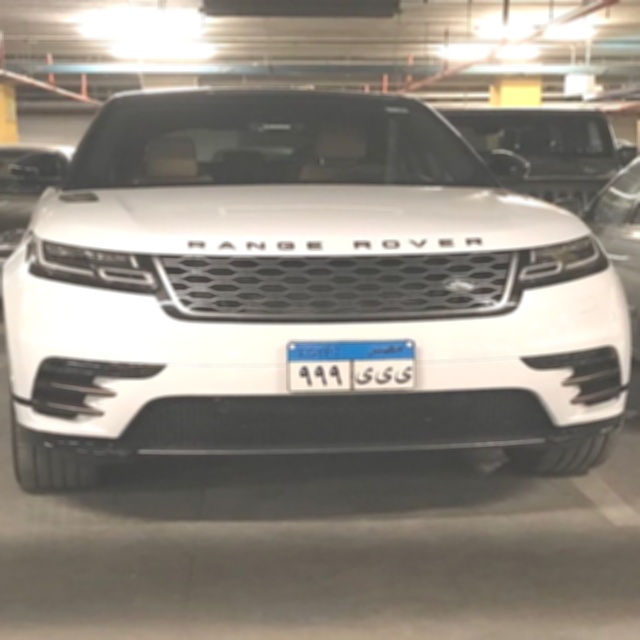License Plate: (284, 338, 417, 394)
